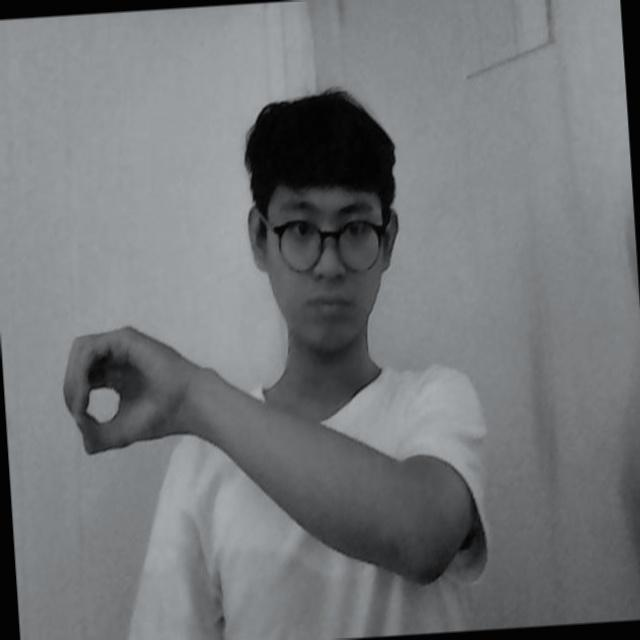O: (56, 322, 192, 460)
